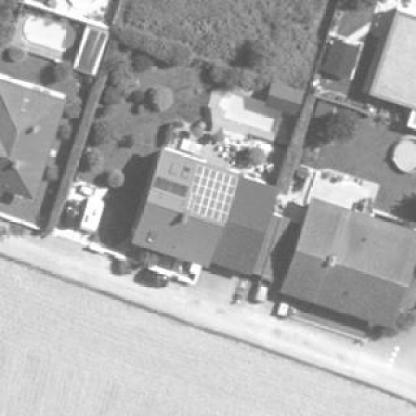solar-pv-panel: (190, 164, 239, 223), (153, 175, 189, 200)
